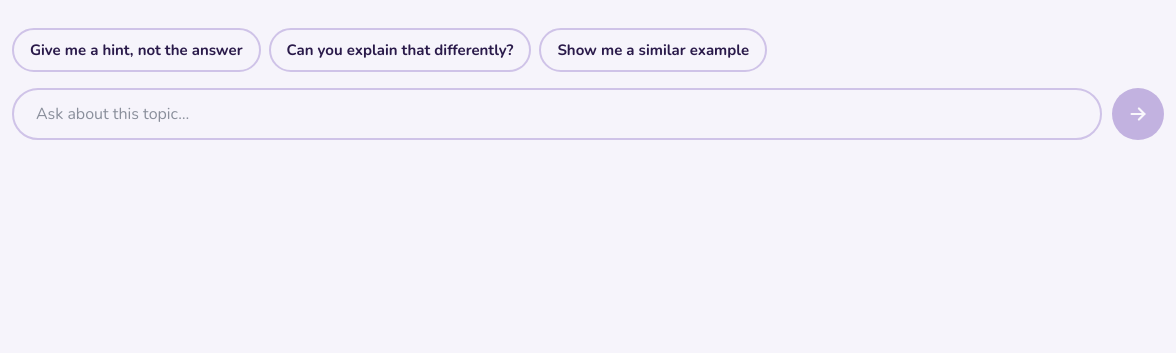
Test: TutorChat › clears a still-answering error once a later question succeeds
Step 1. Type "first question" into the field with placeholder "Ask about this topic…" → (557, 114), box 12,88 -> 1102,140
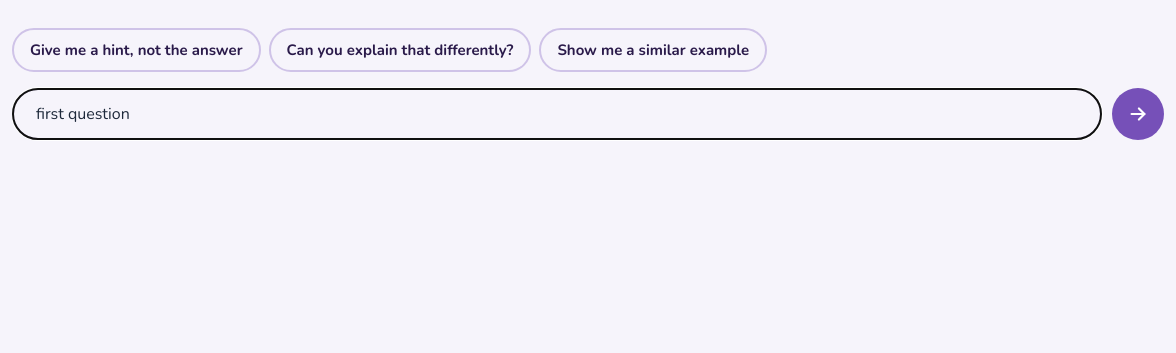
Step 2. Click the button named "send" → (1138, 114), box 1112,88 -> 1164,140
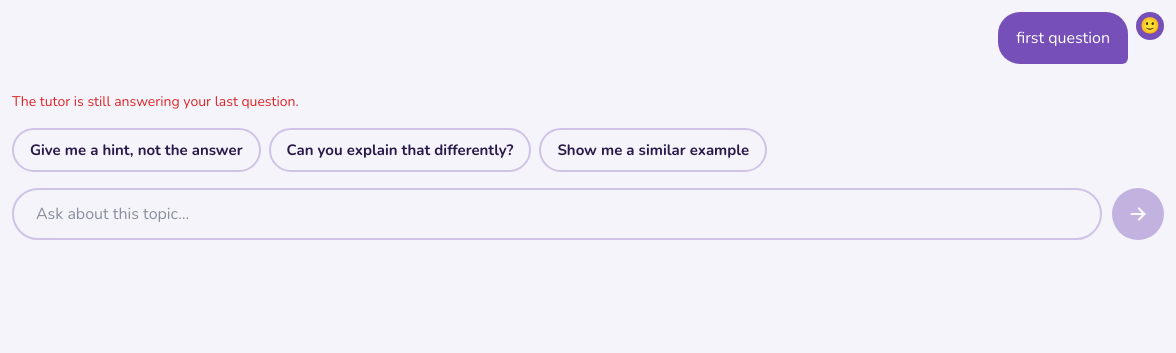
Expected: the text "The tutor is still answering your last question." is shown, 12,92 -> 299,111
Step 3. Type "second question" into the field with placeholder "Ask about this topic…" → (557, 214), box 12,188 -> 1102,240
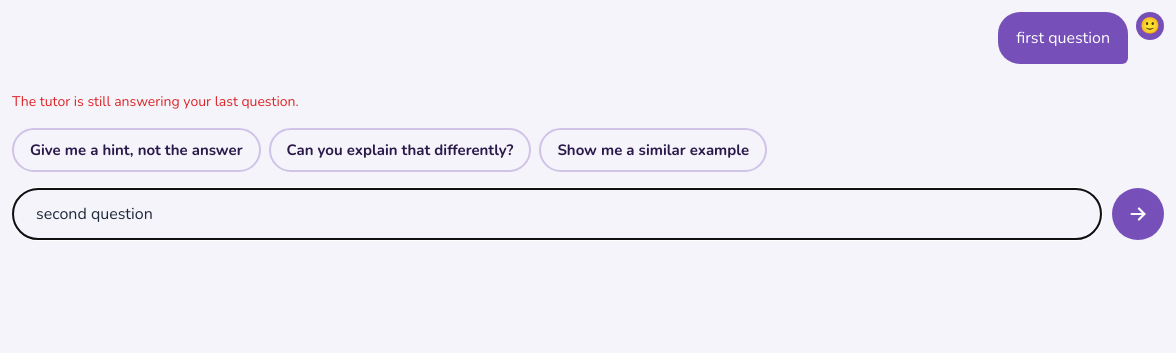
Step 4. Click the button named "send" → (1138, 214), box 1112,188 -> 1164,240
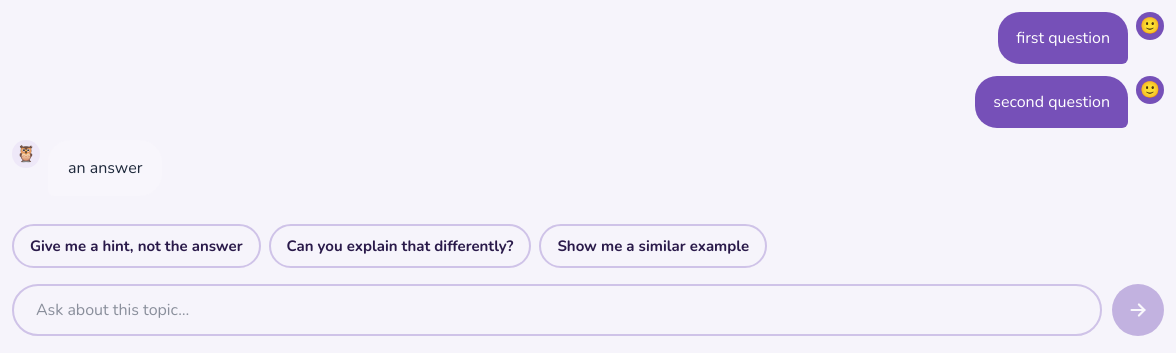
Expected: the text with test id "tutor-error-still-answering" is gone
